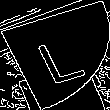L_N: (24, 26, 86, 84)
